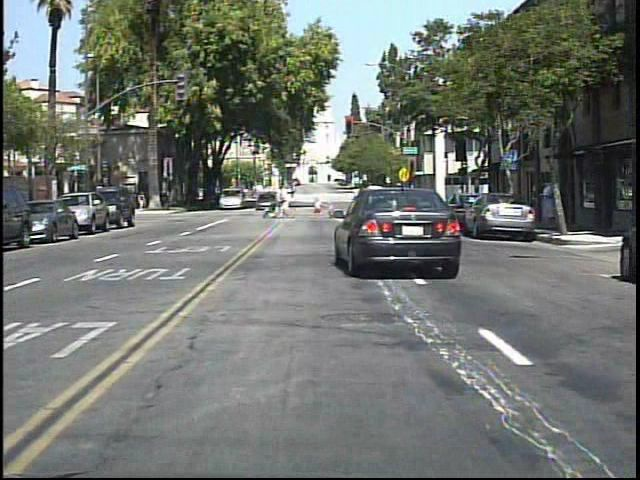person: (534, 175, 554, 232), (280, 183, 296, 221), (138, 190, 147, 213)
